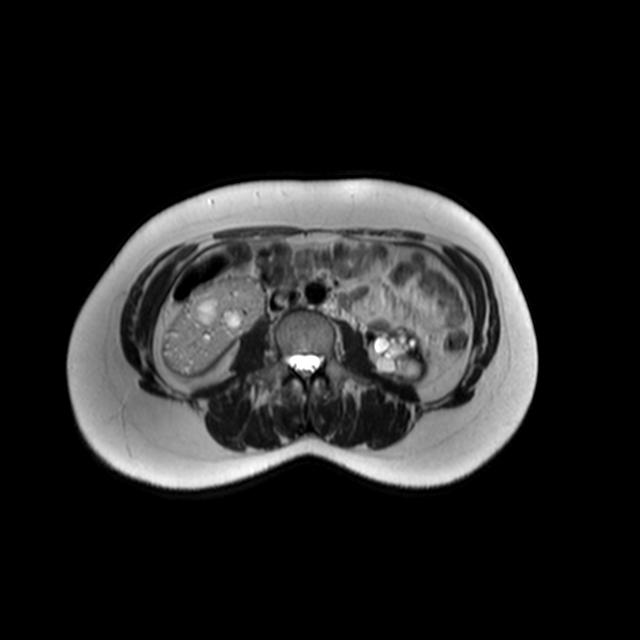sag: (158, 273, 268, 377)
sol: (364, 315, 426, 383)
